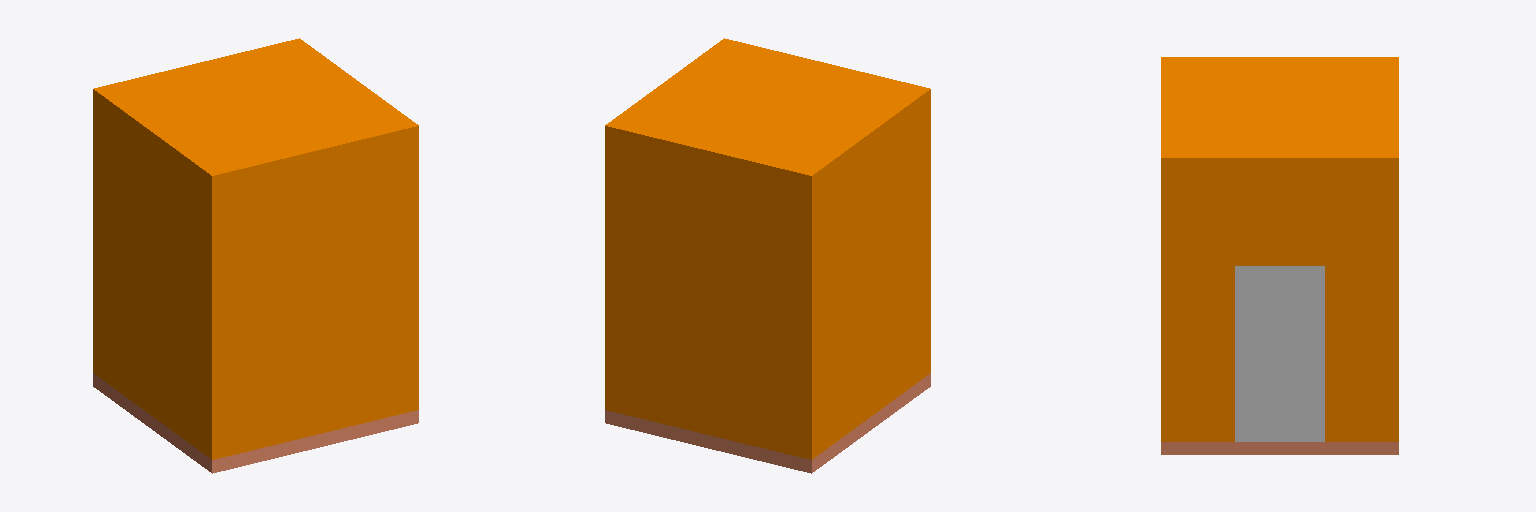
3 views of the same model, side by side, from view 1: azimuth 30°, elevation 25°; view 2: azimuth 150°, elevation 25°; view 3: azimuth 270°, elevation 25° (orthographic).
Visible parts, largest first — view 1: object 1; view 2: object 1; view 3: object 1.
Part boxes in pixels (left/top/right/bottom): object 1: left=93, top=38, right=418, bottom=473; object 1: left=605, top=38, right=930, bottom=473; object 1: left=1161, top=57, right=1398, bottom=454.
Bounding box in the file's own units: 1.6 × 2.2 × 1.6.
1 materials, 1 textured.